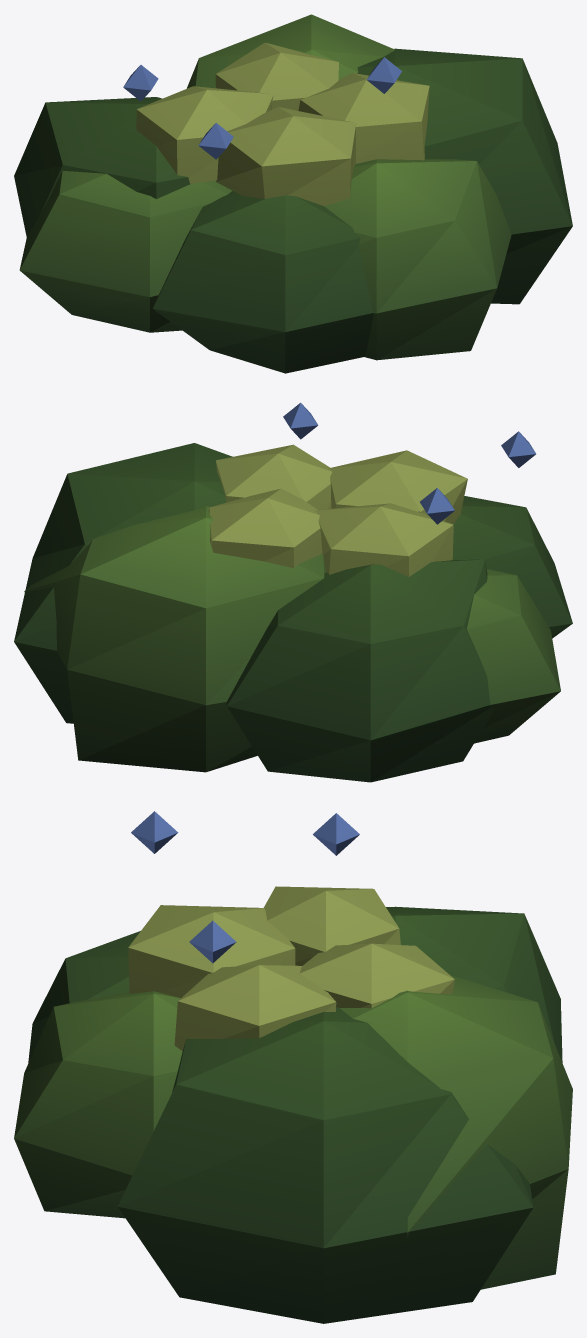
File: fern_bush.glb
3 renders of one model, top to bottom at view 1: azimuth 30°, elevation 25°; view 2: azimuth 150°, elevation 25°; view 3: azimuth 270°, elevation 25°, orthographic. The views are drawn at different scales.
Parts seen in each view (by area): view 1: fern_bush; view 2: fern_bush; view 3: fern_bush.
Part boxes in pixels (box(x1,y1,x2,y2)): fern_bush: box(14, 14, 572, 373); fern_bush: box(14, 402, 572, 782); fern_bush: box(14, 811, 572, 1323).
Size of the model in its own units: 1.5 by 0.7875 by 1.17.
